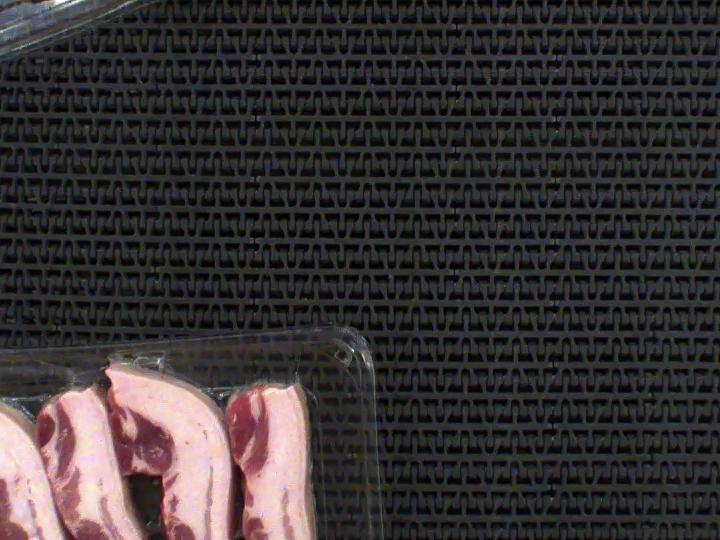packaging-error: (102, 332, 199, 385)
